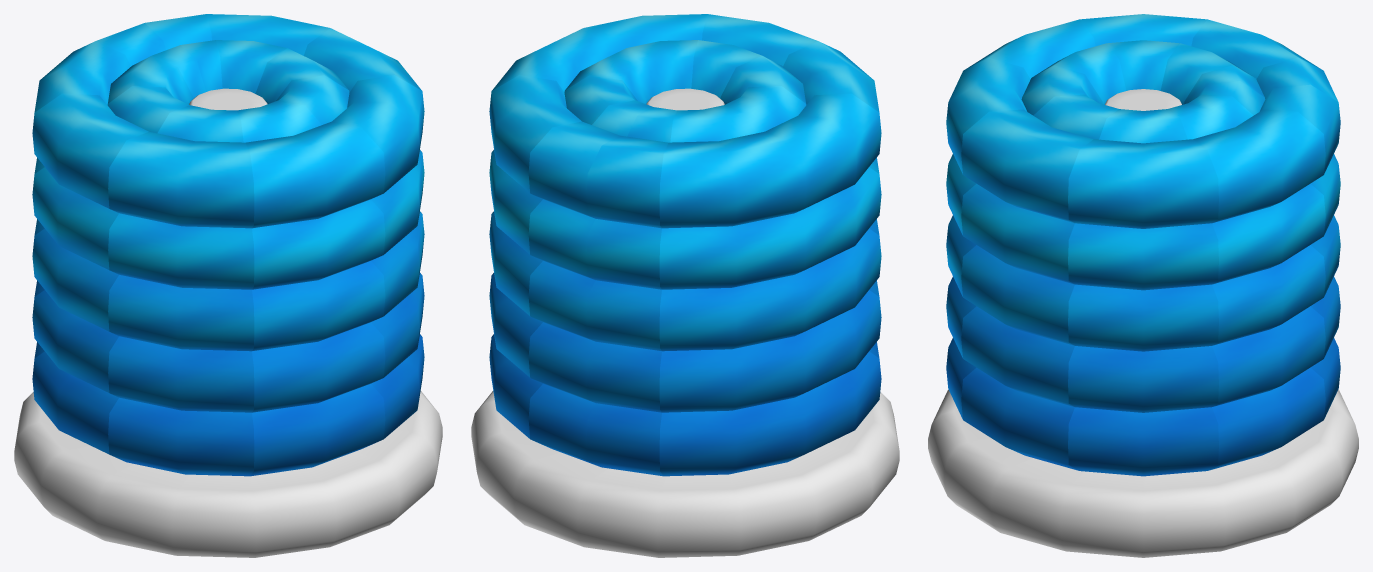
Rendered from roll.fbx.
3 views of the same model, side by side, from view 1: azimuth 30°, elevation 25°; view 2: azimuth 150°, elevation 25°; view 3: azimuth 270°, elevation 25° (orthographic).
Parts seen in each view (by area): view 1: w.003, 40, 33, 8, 16, 32, 24, 1, 25, 17, 9, 39 (+21 smaller); view 2: w.003, 38, 37, 6, 14, 30, 22, 5, 29, 21, 13, 39 (+21 smaller); view 3: w.003, 35, 3, 34, 36, 11, 27, 19, 2, 4, 18, 20 (+25 smaller).
Boxes of the visible parts, <box> form: w.003: <box>14,88,442,557</box>; 40: <box>108,131,254,228</box>; 33: <box>246,121,385,228</box>; 8: <box>108,397,254,476</box>; 16: <box>108,336,254,412</box>; 32: <box>108,213,254,289</box>; 24: <box>108,275,254,351</box>; 1: <box>251,383,385,476</box>; 25: <box>252,199,385,289</box>; 17: <box>252,261,385,350</box>; 9: <box>252,322,385,412</box>; 39: <box>32,93,148,208</box>; w.003: <box>471,88,899,557</box>; 38: <box>659,131,805,228</box>; 37: <box>528,121,667,228</box>; 6: <box>659,397,805,476</box>; 14: <box>659,336,805,412</box>; 30: <box>659,213,805,289</box>; 22: <box>659,275,805,351</box>; 5: <box>528,383,662,476</box>; 29: <box>528,199,661,289</box>; 21: <box>528,261,661,350</box>; 13: <box>528,322,661,412</box>; 39: <box>765,93,881,208</box>; w.003: <box>928,89,1358,557</box>; 35: <box>1068,139,1218,228</box>; 3: <box>1068,407,1218,476</box>; 34: <box>961,109,1093,222</box>; 36: <box>1193,109,1325,222</box>; 11: <box>1068,346,1218,412</box>; 27: <box>1068,223,1218,290</box>; 19: <box>1068,284,1218,351</box>; 2: <box>961,367,1078,470</box>; 4: <box>1208,367,1325,470</box>; 18: <box>961,245,1074,345</box>; 20: <box>1212,245,1325,345</box>.
Size of the model in its own units: 27.24 by 27.56 by 27.24.
